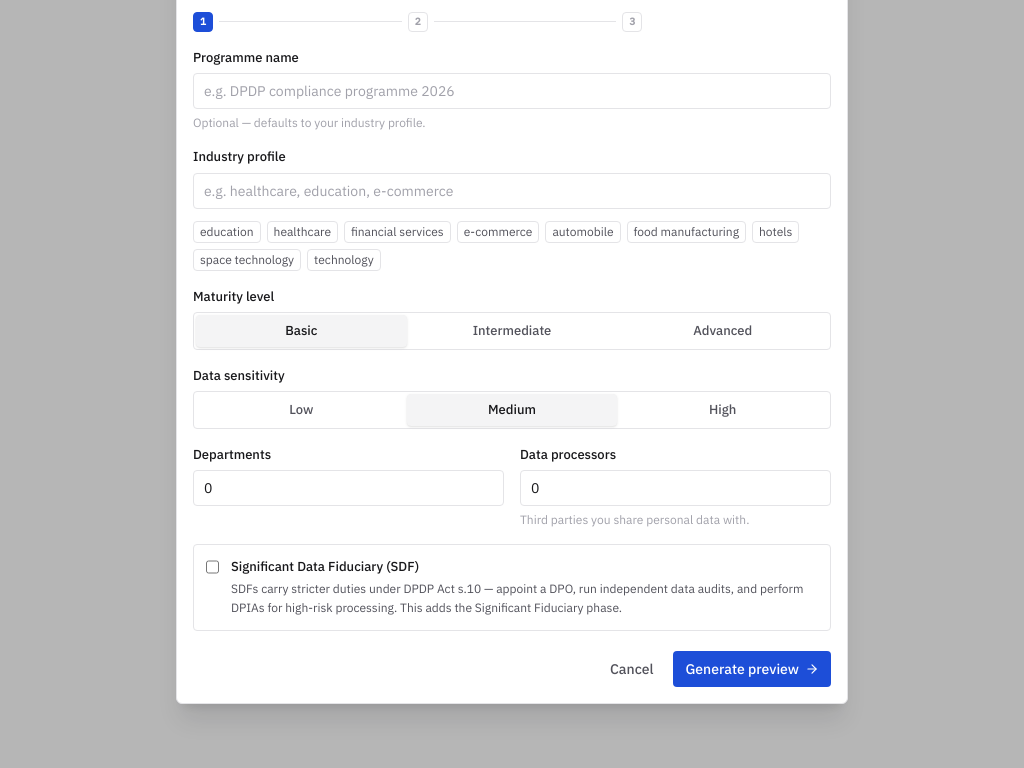
Test: FrameworkWizard (§9.3) › validates the profile before generating
The image size is (1024, 768).
(page scrolled)
What coordinates should you click on to do the following:
click the button "Generate preview"
I would click on:
 (752, 668)
Its box is x1=674 y1=650 x2=831 y2=686.
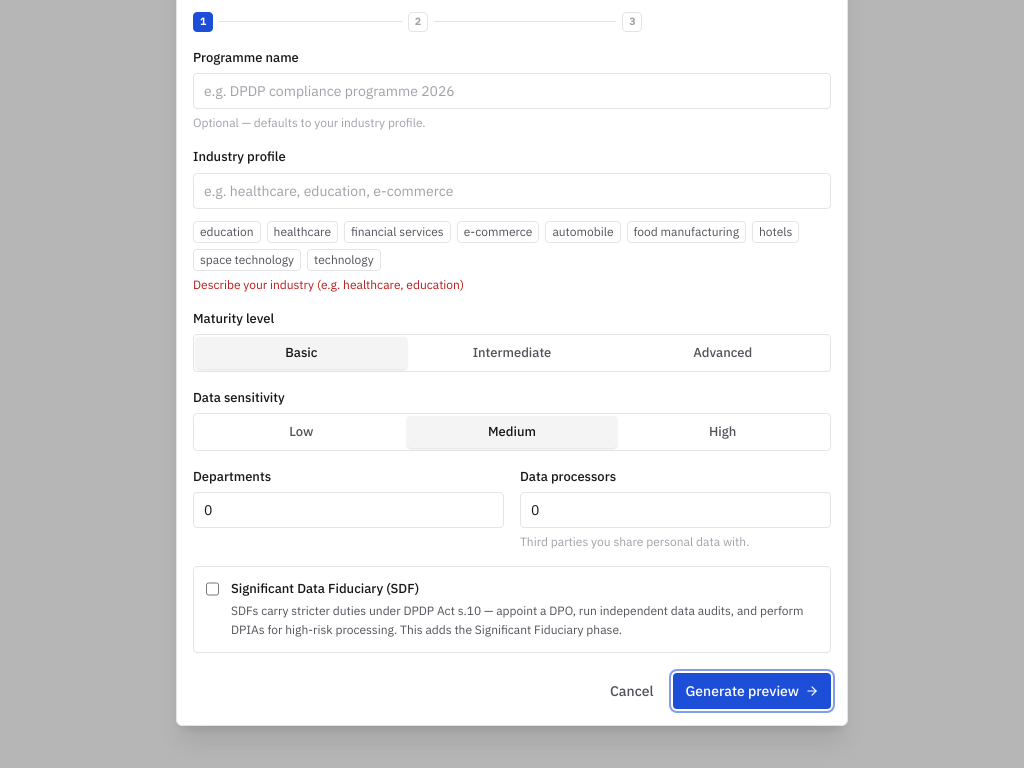
Result: the text "Describe your industry (e.g. healthcare, education)" is shown at x1=193 y1=276 x2=464 y2=292
